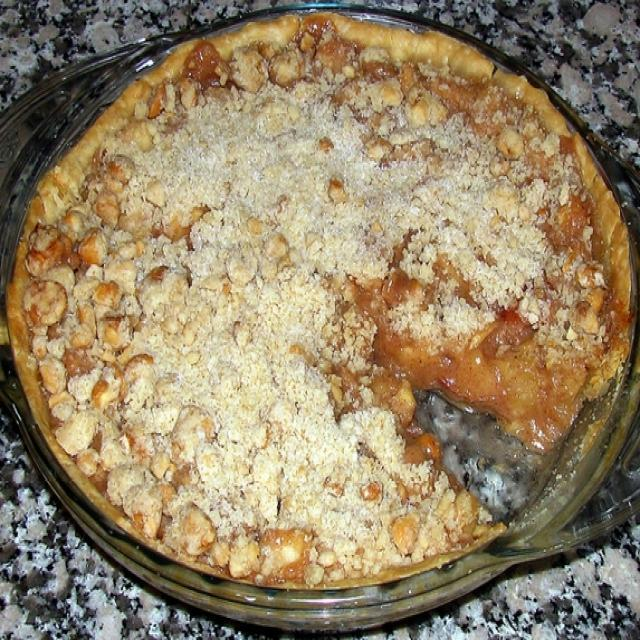Apple: (16, 12, 622, 555)
